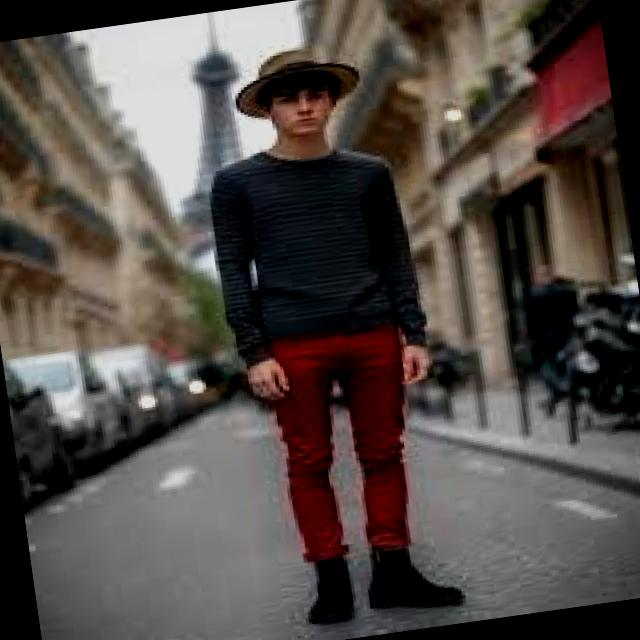hat: (235, 50, 358, 118)
lower-wear: (270, 324, 410, 562)
top-wear: (209, 149, 425, 366)
